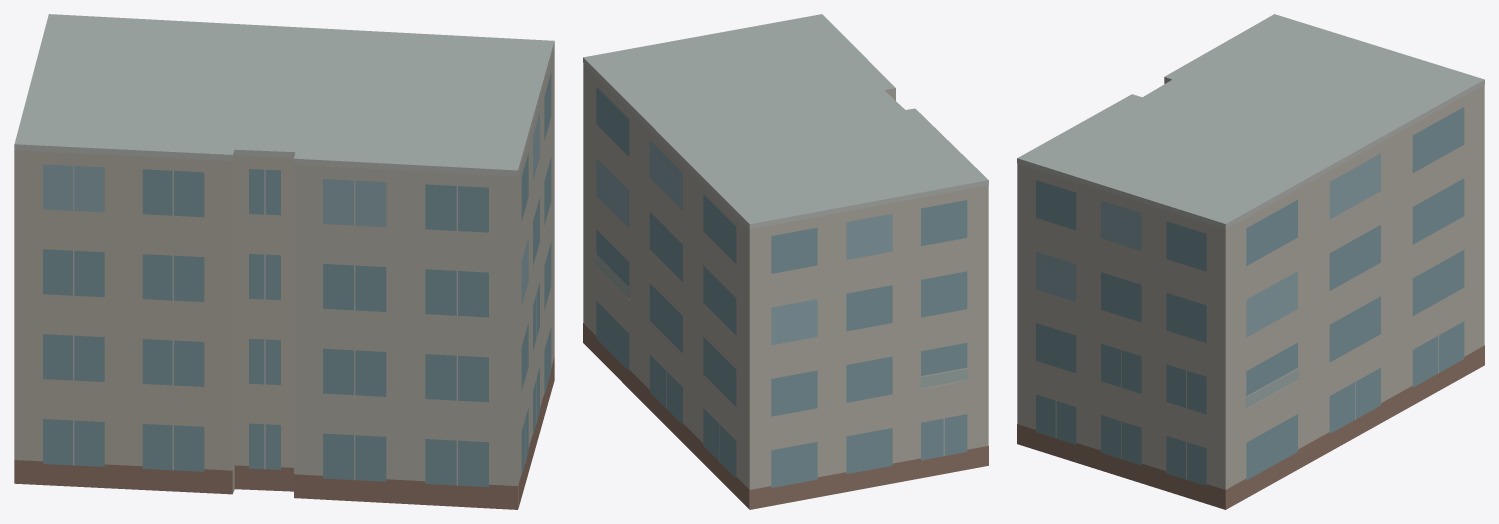
Rendered from survey-upis-32958493.glb.
3 renders of one model, left to right at view 1: azimuth 30°, elevation 25°; view 2: azimuth 150°, elevation 25°; view 3: azimuth 270°, elevation 25°, orthographic. The views are drawn at different scales.
Visible parts, largest first — view 1: survey-upis-32958493.tmp; view 2: survey-upis-32958493.tmp; view 3: survey-upis-32958493.tmp.
Boxes of the visible parts, x1,y1,x2,y2 form: survey-upis-32958493.tmp: (14,14,554,509); survey-upis-32958493.tmp: (583,14,988,509); survey-upis-32958493.tmp: (1017,14,1484,509).
Size of the model in its own units: 21.57 by 13.68 by 20.29.
